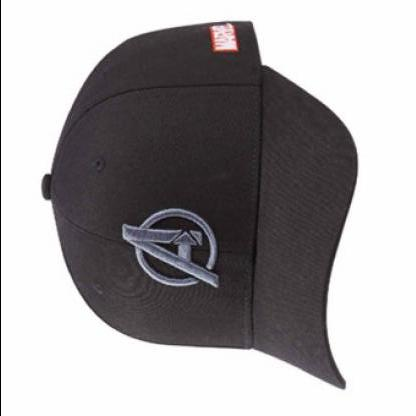cap: (38, 16, 361, 396)
